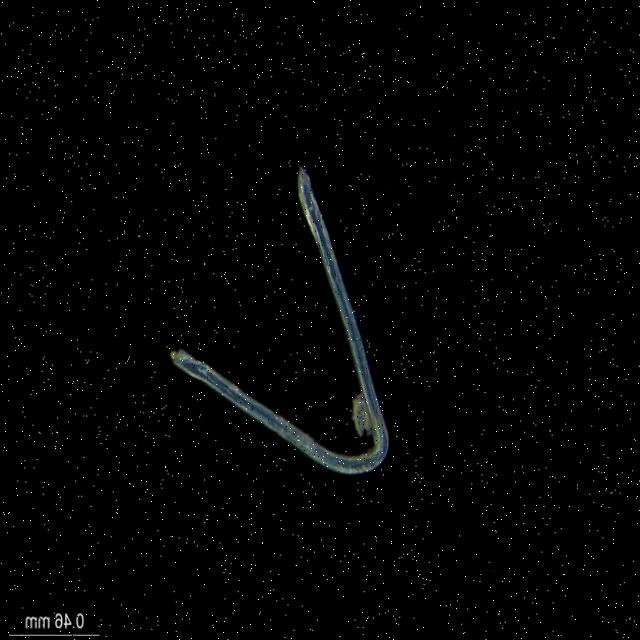Fibre: (165, 163, 392, 487)
